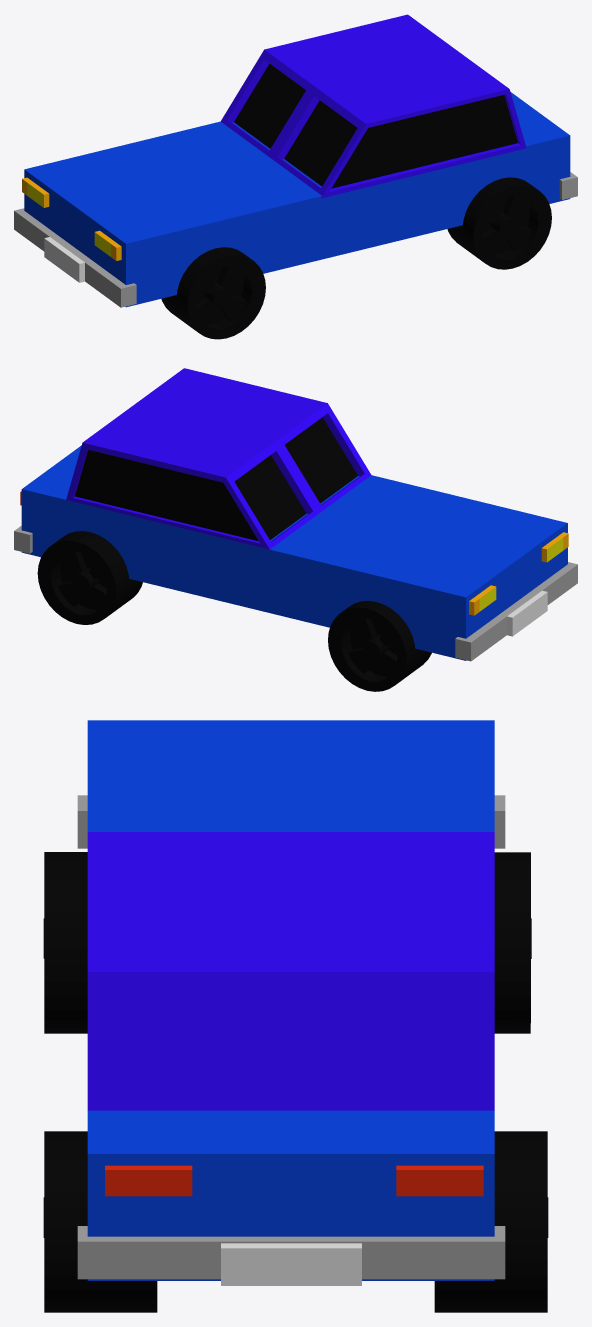
Rendered from Square Car 1.fbx.
3 renders of one model, top to bottom at view 1: azimuth 30°, elevation 25°; view 2: azimuth 150°, elevation 25°; view 3: azimuth 270°, elevation 25°, orthographic. The views are drawn at different scales.
Parts seen in each view (by area): view 1: Cube, Cube.001, Cylinder.003, Cylinder.006, Cube.004, Cube.008, Cube.003, Cube.002, Cube.005; view 2: Cube, Cube.001, Cylinder.007, Cylinder.005, Cube.004, Cube.008, Cube.003, Cube.002, Cube.005; view 3: Cube.001, Cube, Cube.005, Cylinder.007, Cylinder.003, Cylinder.006, Cylinder.005, Cube.009, Cube.007, Cube.006, Cube.004.
Part boxes in pixels (left/top/right/bottom): Cube: left=24, top=92, right=570, bottom=307; Cube.001: left=220, top=14, right=526, bottom=198; Cylinder.003: left=447, top=177, right=551, bottom=269; Cylinder.006: left=161, top=247, right=265, bottom=339; Cube.004: left=14, top=208, right=136, bottom=307; Cube.008: left=44, top=237, right=84, bottom=282; Cube.003: left=94, top=230, right=121, bottom=260; Cube.002: left=22, top=177, right=49, bottom=207; Cube.005: left=559, top=172, right=577, bottom=199; Cube: left=21, top=445, right=567, bottom=660; Cube.001: left=66, top=368, right=371, bottom=549; Cylinder.007: left=37, top=531, right=142, bottom=624; Cylinder.005: left=328, top=601, right=431, bottom=691; Cube.004: left=455, top=562, right=577, bottom=661; Cube.008: left=507, top=590, right=547, bottom=636; Cube.003: left=541, top=532, right=568, bottom=562; Cube.002: left=469, top=585, right=496, bottom=615; Cube.005: left=14, top=526, right=32, bottom=553; Cube.001: left=87, top=832, right=494, bottom=1110; Cube: left=87, top=720, right=494, bottom=1280; Cube.005: left=77, top=1226, right=505, bottom=1279; Cylinder.007: left=434, top=1131, right=548, bottom=1312; Cylinder.003: left=43, top=1131, right=157, bottom=1312; Cylinder.006: left=43, top=852, right=87, bottom=1033; Cylinder.005: left=494, top=852, right=531, bottom=1033; Cube.009: left=221, top=1243, right=361, bottom=1285; Cube.007: left=396, top=1165, right=483, bottom=1196; Cube.006: left=105, top=1165, right=192, bottom=1196; Cube.004: left=77, top=795, right=505, bottom=848.
Bounding box in the file's own units: 274 × 95.02 × 128.
